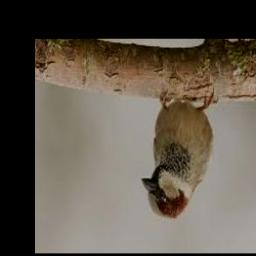Sparrow: (141, 87, 217, 219)
